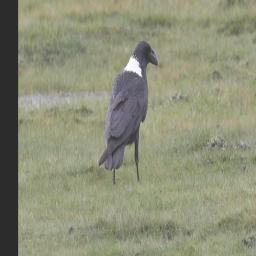Crow: (98, 39, 158, 183)
